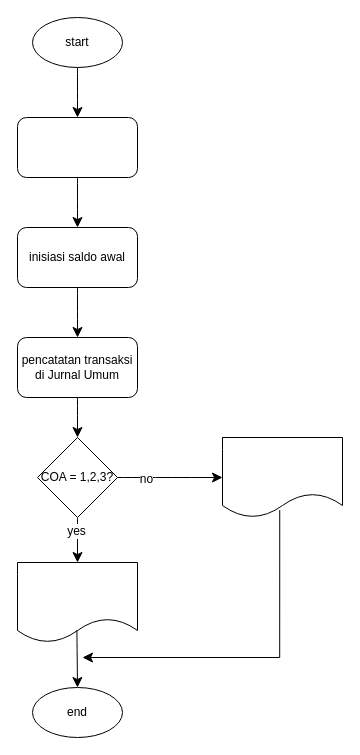
This 360x755 diagram has some shape labels left out. Here are the shapes that lost their labels. From the top down, the centre of each, then its label:
At point (77, 147): "pembuatan COA".
At point (282, 477): "Laporan Laba Rugi".
At point (77, 602): "Neraca".
